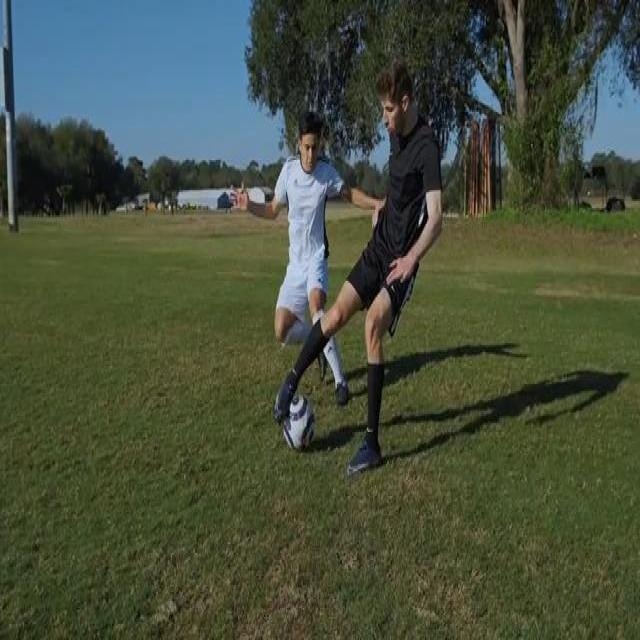Soccer Ball: (282, 393, 316, 451)
